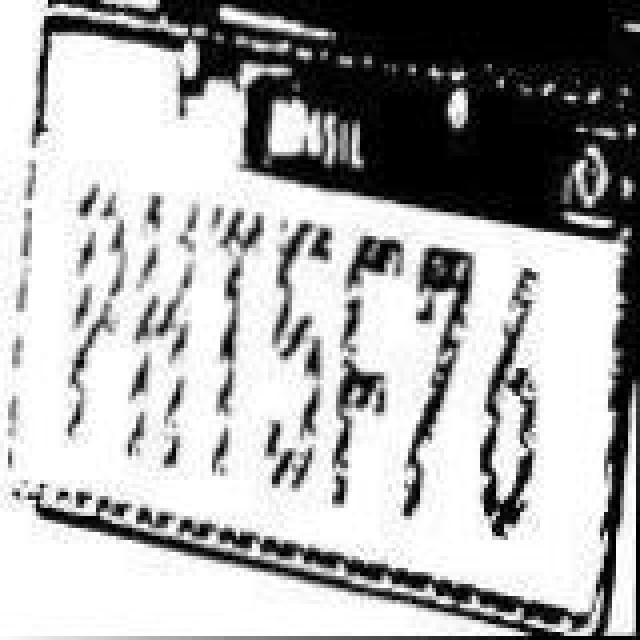5: (270, 206, 342, 518)
6: (478, 244, 558, 548)
7: (406, 228, 478, 536)
F: (334, 212, 406, 520)
H: (138, 184, 202, 500)
P: (66, 188, 130, 492)
T: (204, 204, 272, 512)
